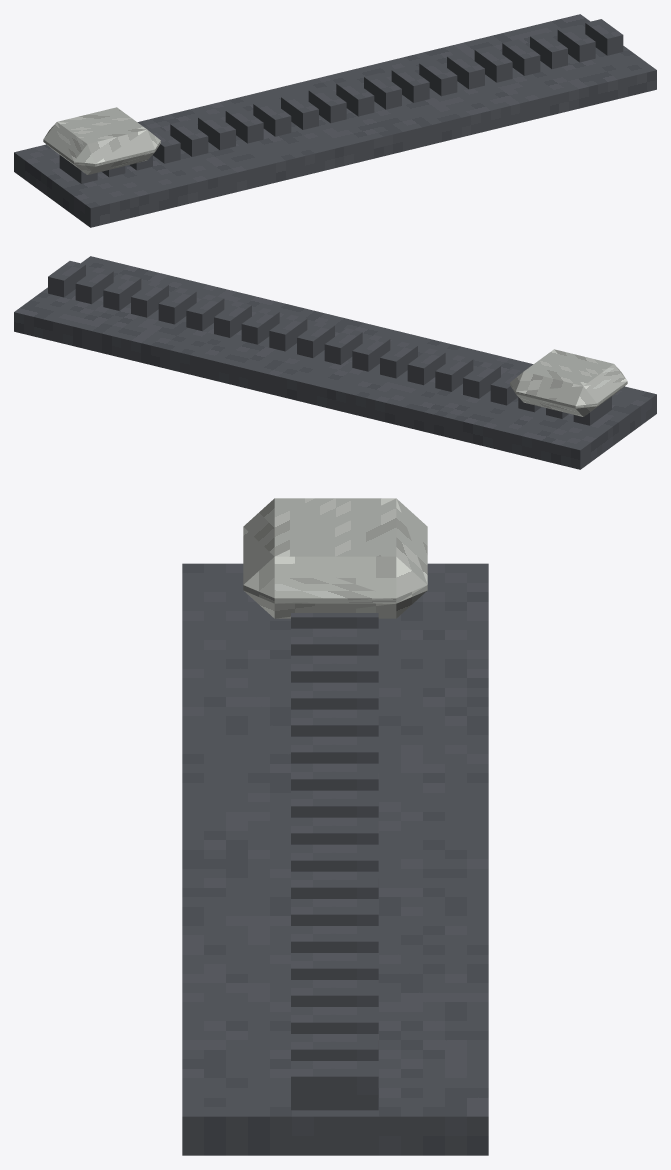
Rendered from zipper_long_plastic.glb.
3 renders of one model, top to bottom at view 1: azimuth 30°, elevation 25°; view 2: azimuth 150°, elevation 25°; view 3: azimuth 270°, elevation 25°, orthographic. The views are drawn at different scales.
Visible parts, largest first — view 1: block_zip tape, block_interlocking tooth (×18), block_slider; view 2: block_zip tape, block_interlocking tooth (×18), block_slider; view 3: block_zip tape, block_interlocking tooth (×18), block_slider.
Boxes of the visible parts, box(x1,y1,x2,y2) form: block_zip tape: box(14, 14, 656, 227); block_interlocking tooth (×18): box(59, 19, 623, 183); block_slider: box(43, 107, 160, 174); block_zip tape: box(14, 256, 656, 469); block_interlocking tooth (×18): box(48, 261, 611, 425); block_slider: box(510, 349, 627, 416); block_zip tape: box(182, 563, 488, 1155); block_interlocking tooth (×18): box(291, 613, 378, 1110); block_slider: box(243, 498, 427, 618).
Bounding box in the file's own units: 0.043 × 0.0045 × 0.0101.
1 material, 1 textured.
